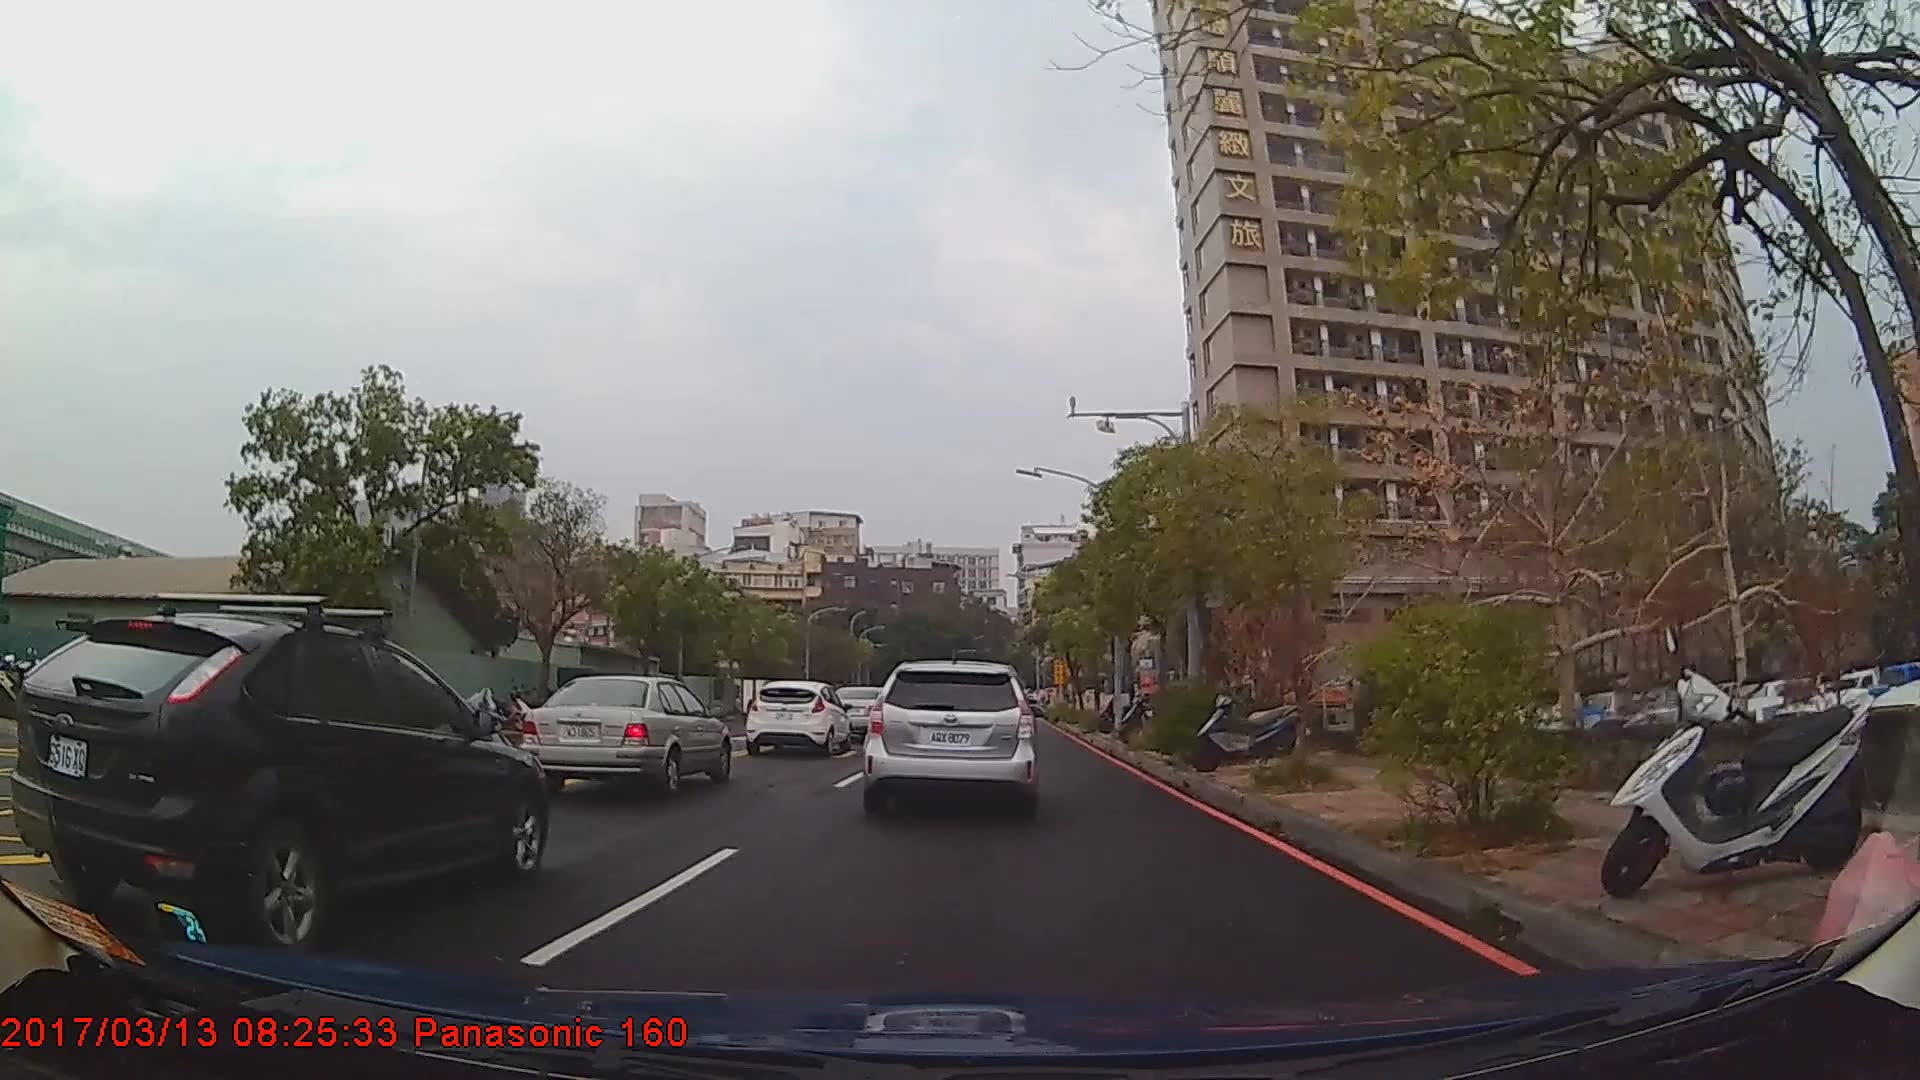vehicle: (13, 611, 546, 953), (861, 658, 1039, 814), (520, 673, 731, 796), (742, 680, 849, 756)
